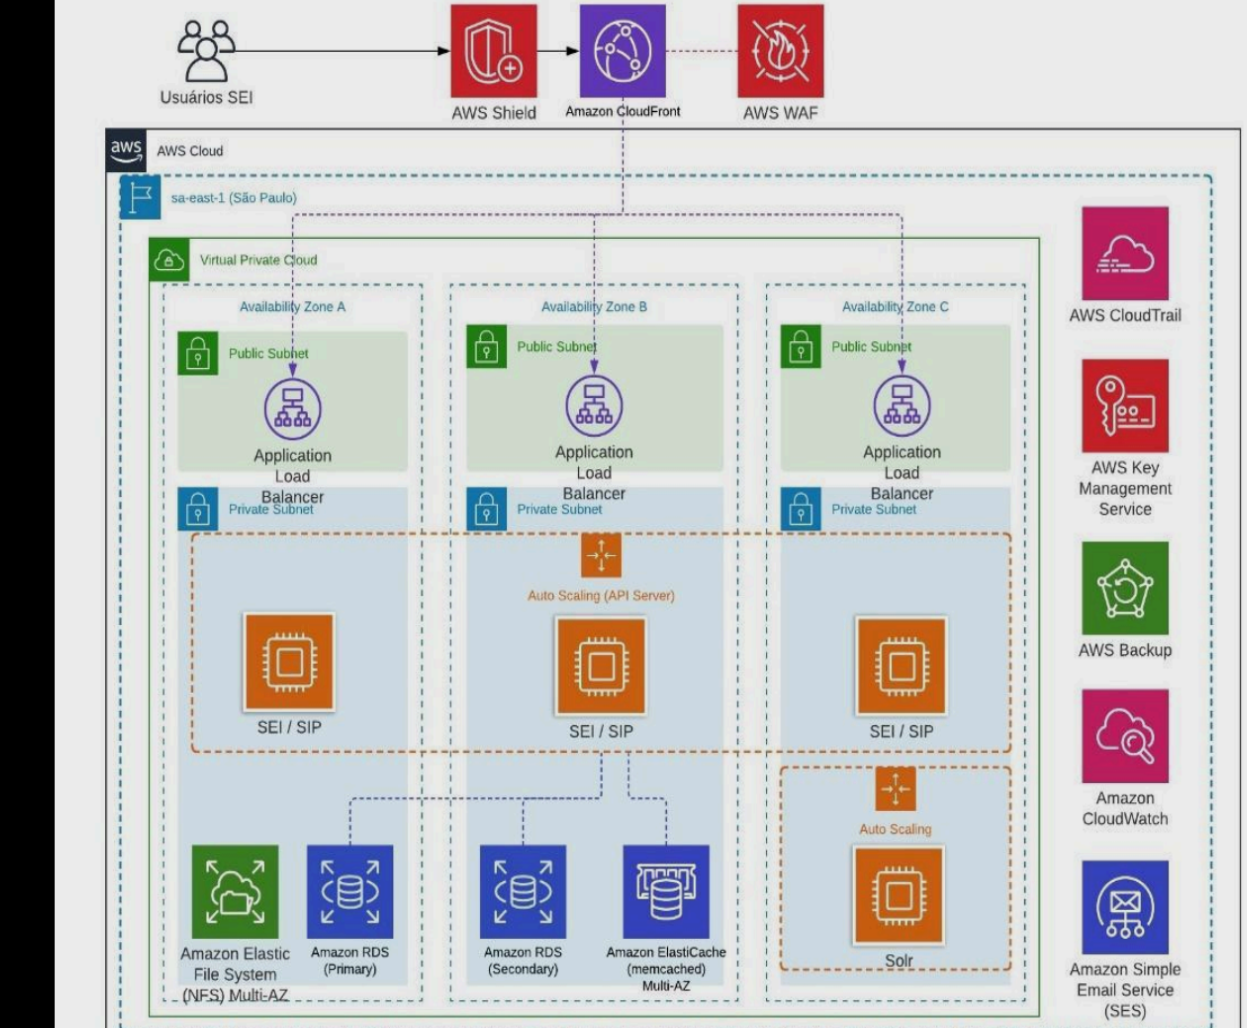aws_application_load_balancer: (868, 372, 933, 436), (259, 375, 323, 439), (560, 372, 624, 436)
aws_autoscaling: (580, 532, 619, 576), (875, 765, 914, 807)
aws_backup: (1082, 540, 1166, 633)
aws_cloud: (102, 127, 145, 167)
aws_cloud_trail: (1082, 204, 1166, 298)
aws_cloudfront: (577, 2, 665, 98)
aws_cloudwatch: (1082, 691, 1165, 783)
aws_elactic_file_system(nfs)_multi-az: (193, 844, 277, 938)
aws_elasticache: (620, 847, 708, 940)
aws_key_management_service: (1080, 358, 1168, 453)
aws_private_subnet: (779, 486, 819, 533), (467, 484, 506, 529), (177, 486, 216, 529)
aws_public_subnet: (448, 0, 536, 99), (175, 329, 218, 375), (465, 322, 505, 369), (780, 323, 818, 366)
aws_rds: (308, 845, 393, 934), (481, 845, 565, 934)
aws_region: (117, 173, 161, 218)
aws_simple_email_service: (1081, 860, 1168, 956)
aws_virtual_private_cloud: (148, 237, 190, 281)
aws_waf: (731, 0, 825, 100)
sei/sip: (554, 614, 644, 713), (243, 610, 334, 709), (856, 614, 945, 713)
solr: (856, 845, 940, 937)
user: (168, 14, 241, 82)
